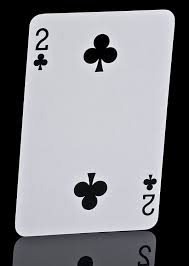two of clubs: (14, 9, 175, 236)
